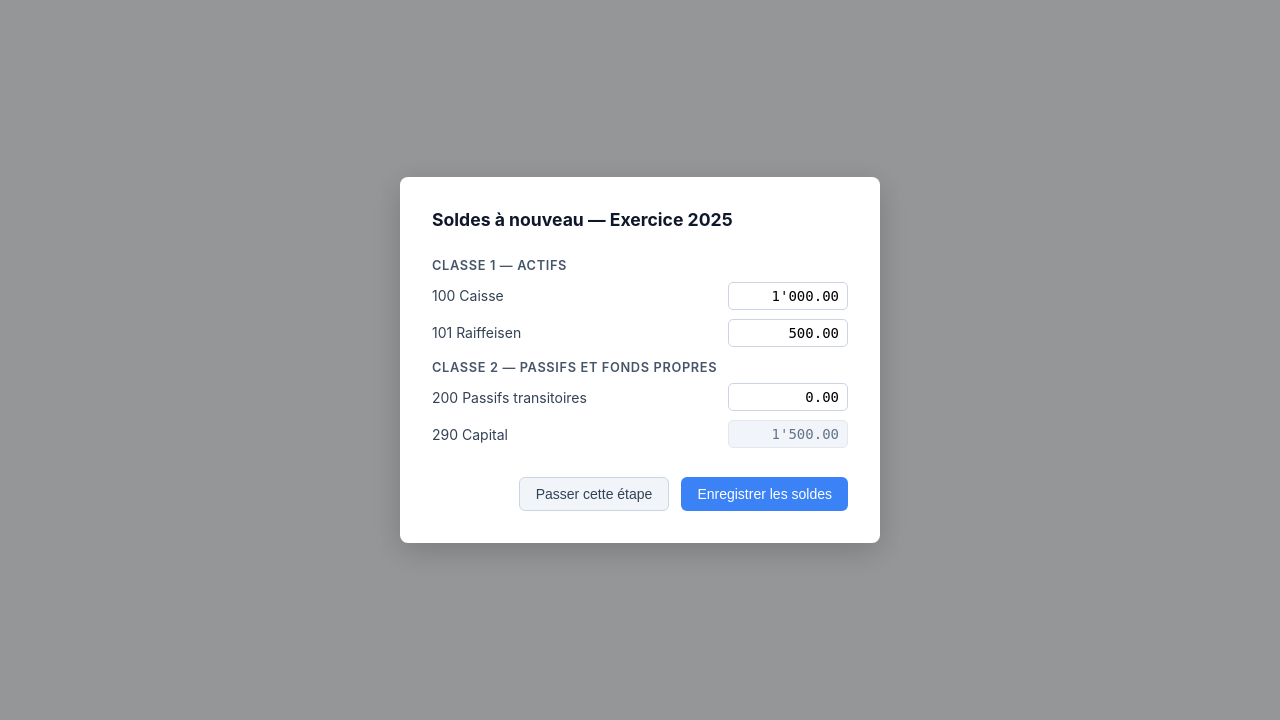
Test: OpeningBalanceModal — calcul Capital › Capital se recalcule quand un actif change
Replace the text in the field named "Solde Caisse" with "200.00". click: (788, 296)
box: [728,282,848,310]
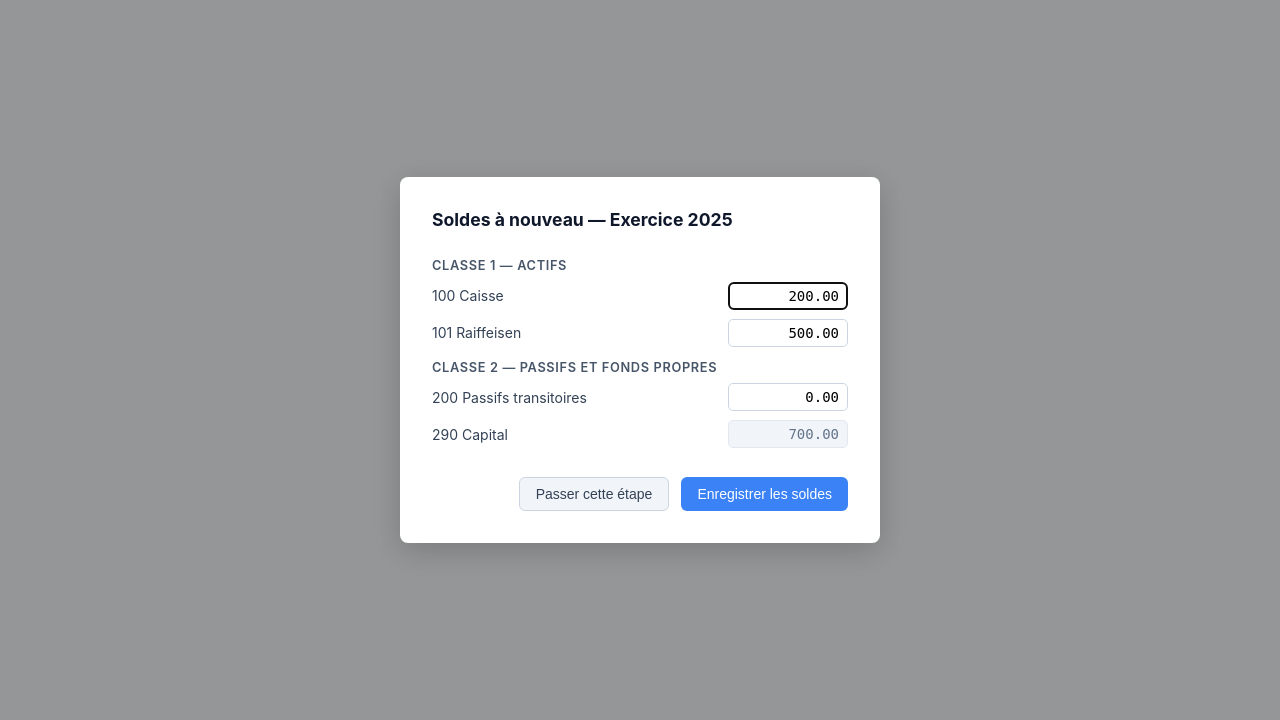
Expected: the field named "Solde Capital" holds "700.00", [728,420,848,448]
